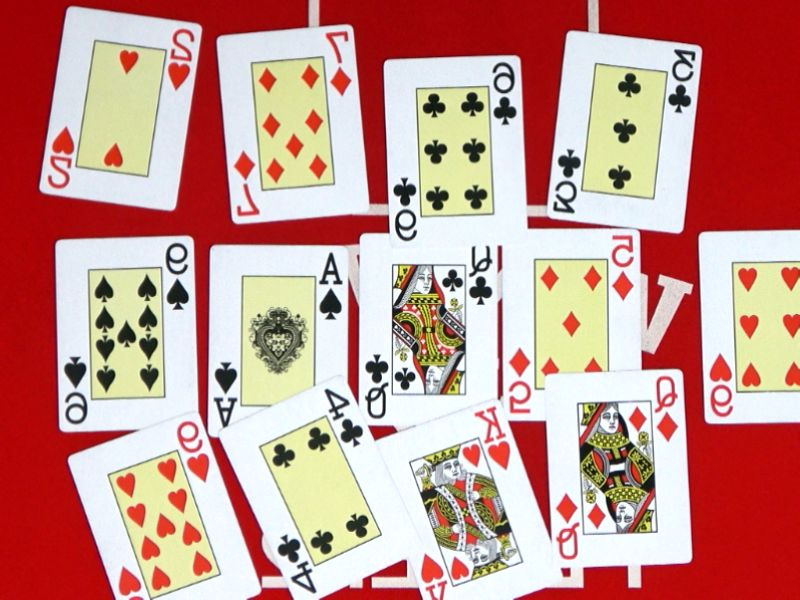2H: (18, 125, 99, 195), (140, 26, 221, 96)
3C: (644, 48, 724, 121), (529, 146, 609, 218)
4C: (293, 378, 390, 457), (240, 523, 339, 600)
5D: (478, 344, 562, 420), (583, 233, 667, 308)
6C: (363, 174, 445, 250), (464, 59, 546, 134)
6H: (682, 351, 760, 421)
7D: (299, 28, 381, 103), (203, 148, 284, 223)
9H: (148, 414, 236, 490), (98, 561, 163, 600)
9S: (131, 239, 221, 319), (27, 353, 114, 430)
AS: (287, 248, 375, 327), (183, 359, 266, 434)
KH: (448, 402, 537, 477), (395, 542, 470, 600)
QC: (338, 351, 414, 420)
QD: (522, 488, 610, 568), (626, 373, 707, 447)
